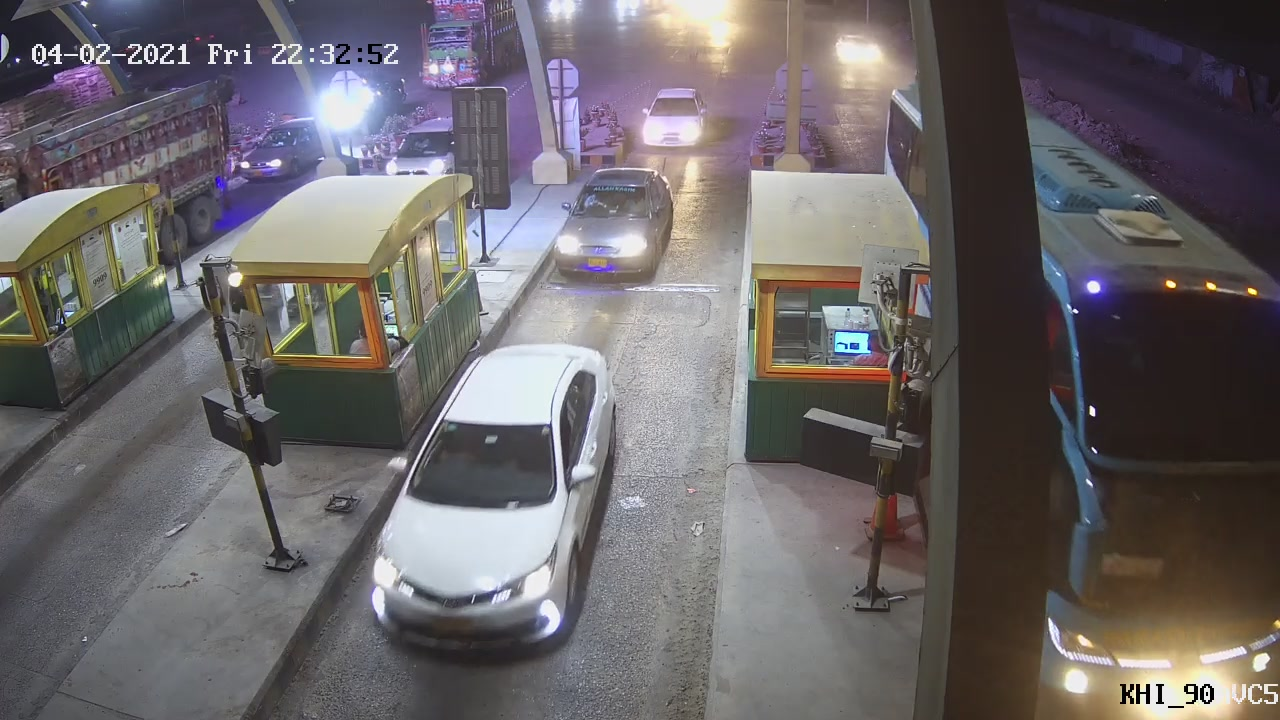F1: (365, 338, 616, 649), (551, 161, 680, 296)
